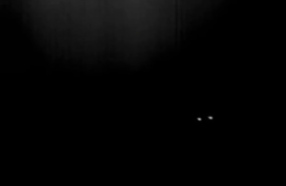Target: (198, 116, 212, 120)
